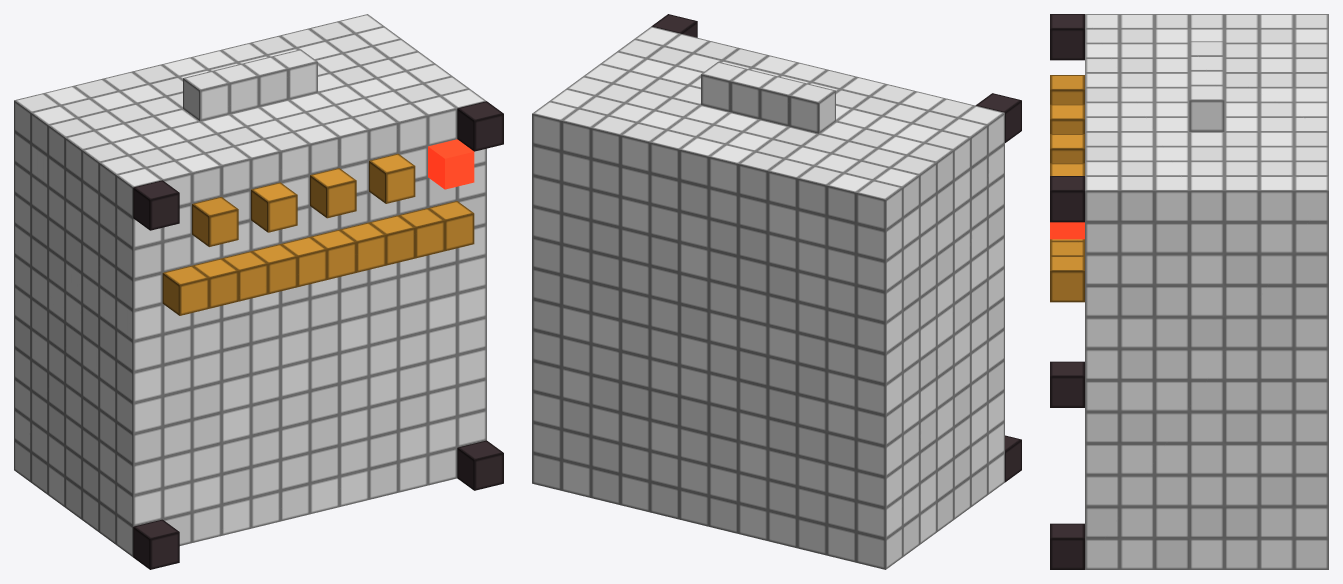
File: amp.glb
3 renders of one model, left to right at view 1: azimuth 30°, elevation 25°; view 2: azimuth 150°, elevation 25°; view 3: azimuth 270°, elevation 25°, orthographic. The views are drawn at different scales.
Visible parts, largest first — view 1: amp; view 2: amp; view 3: amp.
Boxes of the visible parts, x1,y1,x2,y2 form: amp: [14, 14, 503, 569]; amp: [532, 14, 1021, 569]; amp: [1050, 14, 1328, 569].
Bounding box in the file's own units: 0.6 × 0.65 × 0.4.
Materials: 6 (5 with a texture image).
